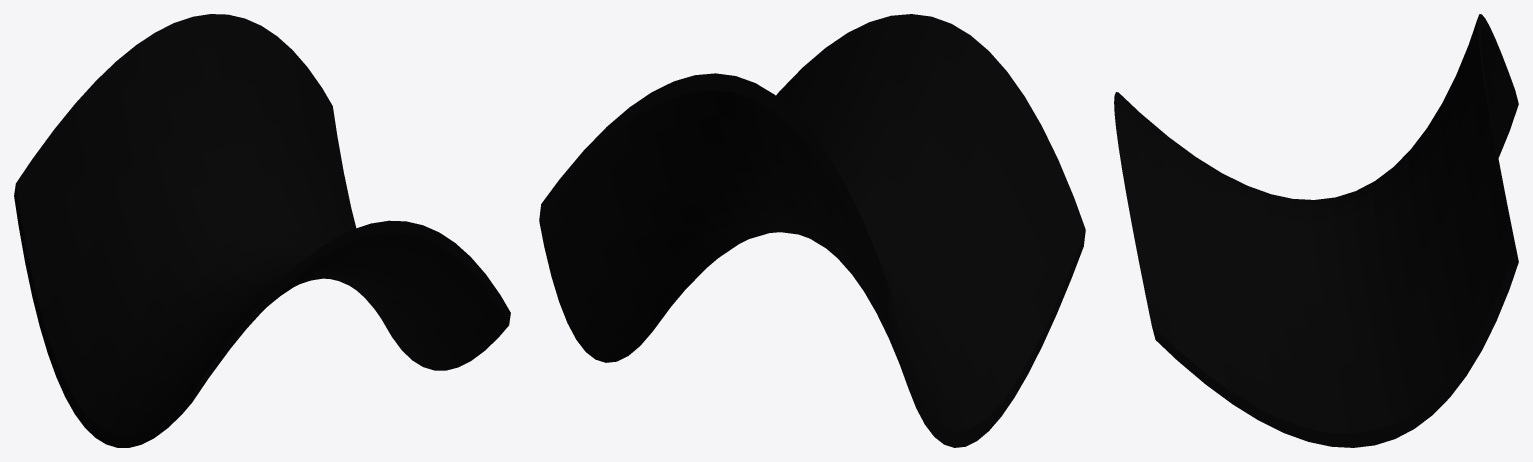
Rendered from paraboloid hiperbolico.fbx.
3 views of the same model, side by side, from view 1: azimuth 30°, elevation 25°; view 2: azimuth 150°, elevation 25°; view 3: azimuth 270°, elevation 25° (orthographic). The views are drawn at different scales.
Visible parts, largest first — view 1: root; view 2: root; view 3: root.
Boxes of the visible parts, box(x1,y1,x2,y2) form: root: box(14, 14, 510, 447); root: box(539, 14, 1085, 447); root: box(1114, 14, 1518, 447).
Bounding box in the file's own units: 1.02 × 1.04 × 1.11.
Materials: 1 (1 with a texture image).
